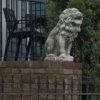Statue: (36, 4, 88, 73)
